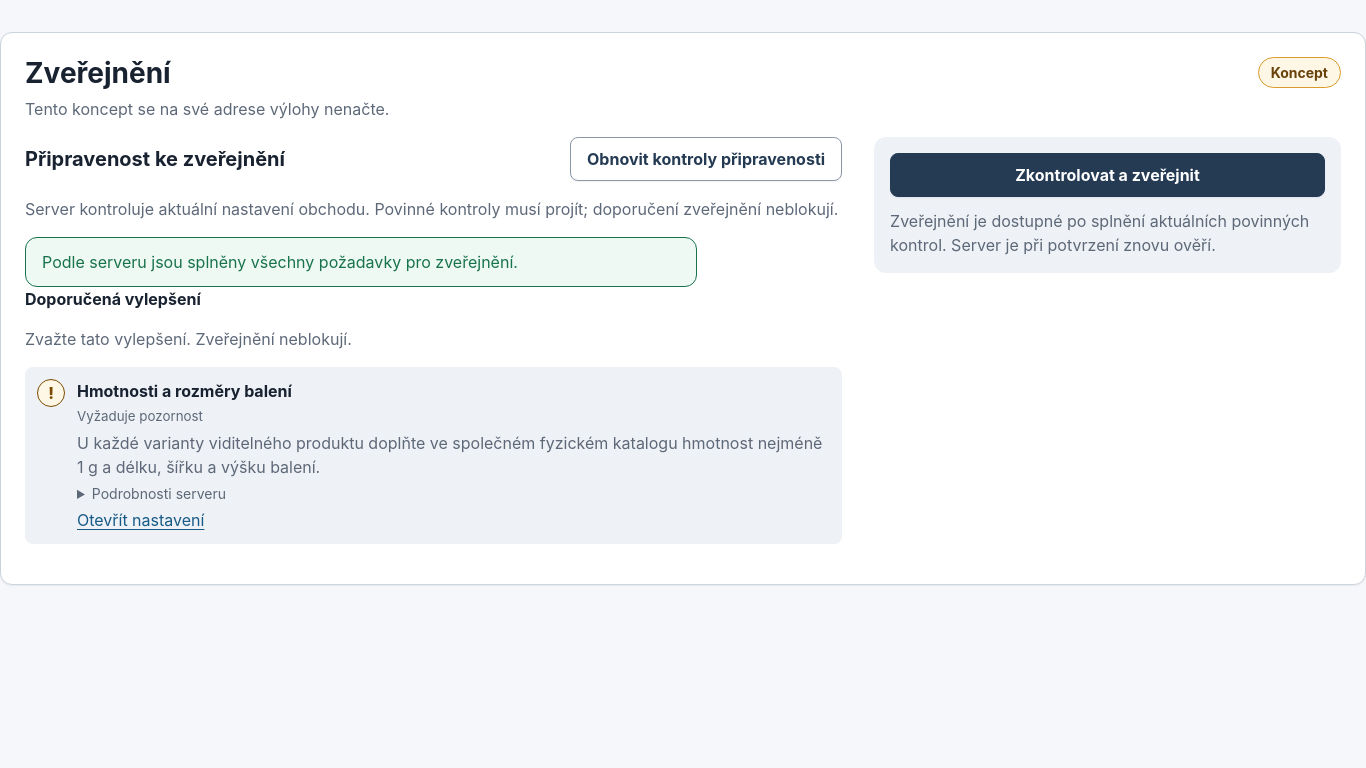
Test: server publication readiness › labels shipping data and links to company products, respecting the server weight in cs
The image size is (1366, 768).
Check: the text "U každé varianty viditelného produktu doplňte ve společném fyzickém katalogu hmotnost nejméně 1 g a délku, šířku a výšku" is shown, box [77, 433, 822, 477]
Check: the button "Zkontrolovat a zveřejnit" is enabled, box [890, 153, 1325, 197]
Click the button "Obnovit kontroly připravenosti".
click(706, 159)  # box [570, 137, 842, 181]
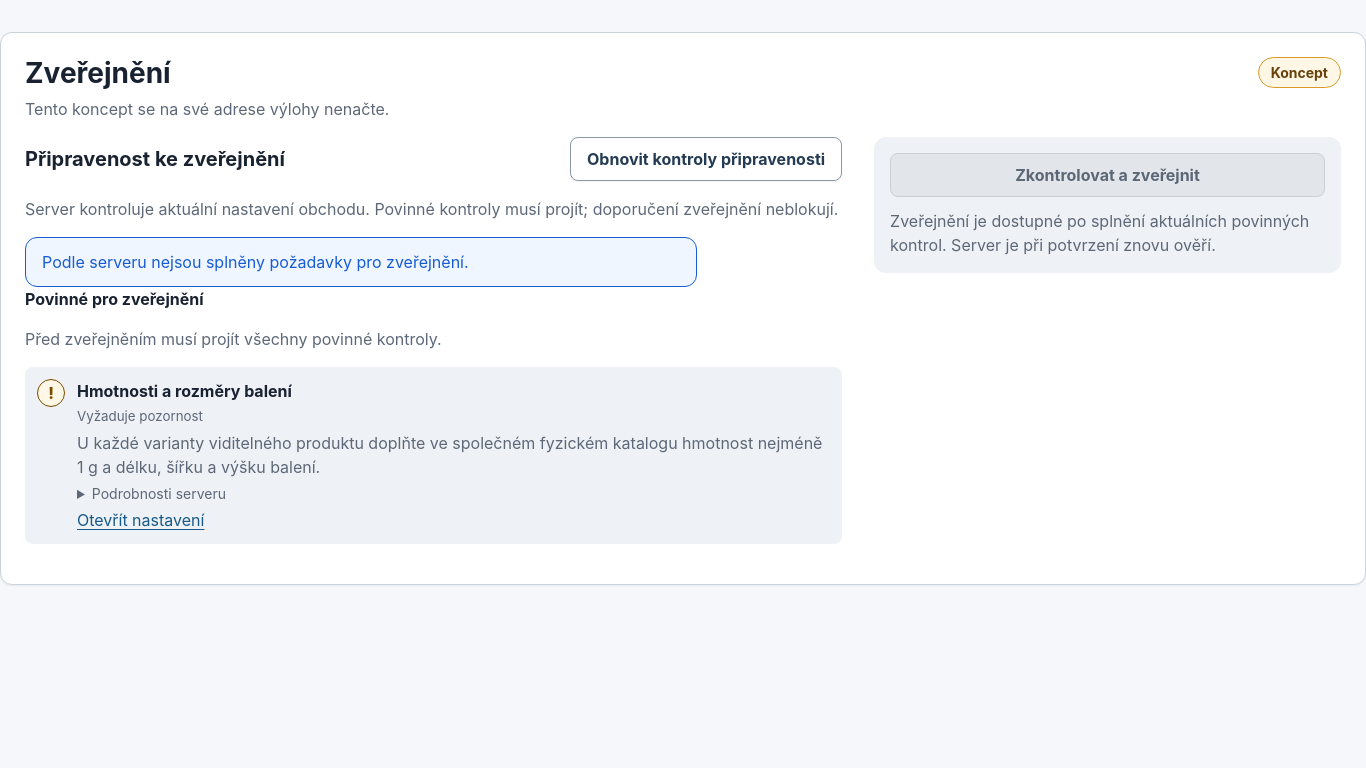
Check: the text "Hmotnosti a rozměry balení" is shown, box [77, 381, 292, 401]
Check: the button "Zkontrolovat a zveřejnit" is disabled, box [890, 153, 1325, 197]
